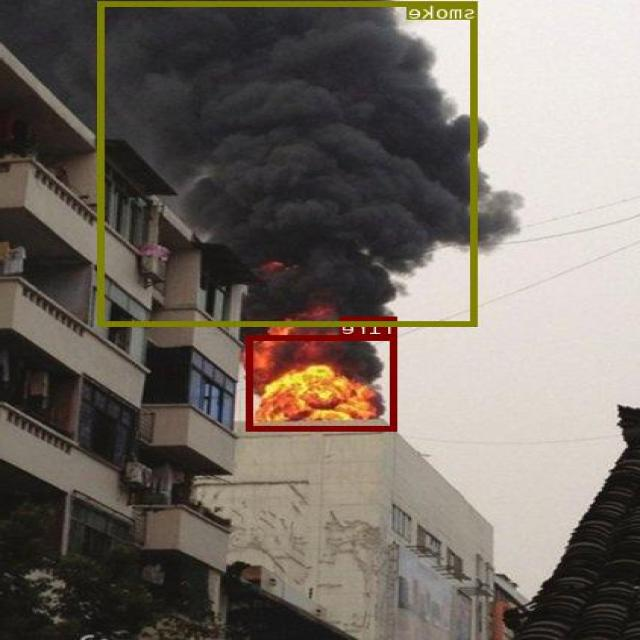fire: (248, 334, 398, 430)
smoke: (100, 1, 478, 325)
